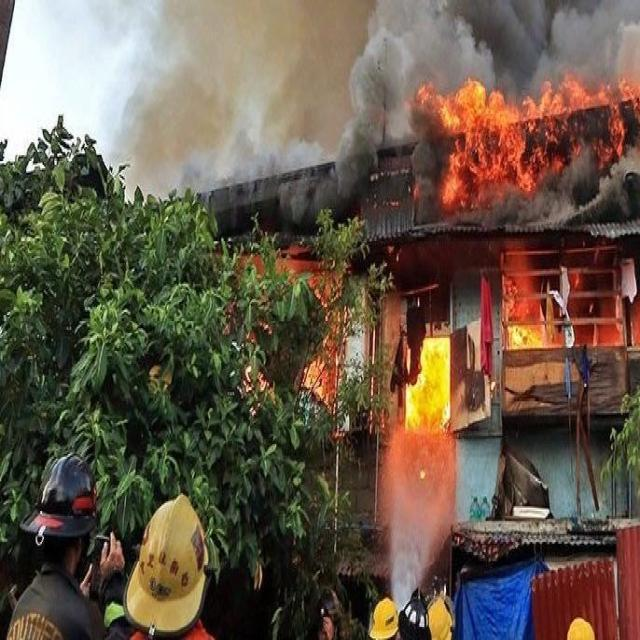Fire: (433, 89, 640, 198), (400, 316, 460, 442), (500, 283, 566, 353)
Smoke: (121, 2, 346, 154), (352, 0, 640, 91), (282, 129, 381, 217)
